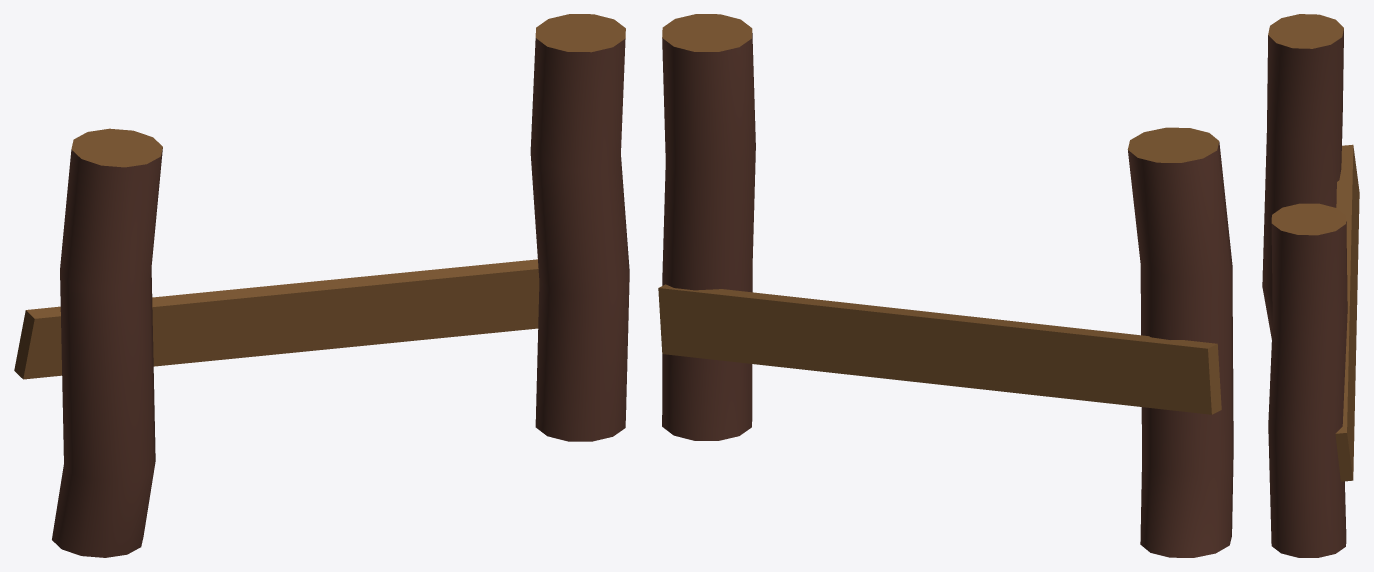
Rendered from WoodSemiRoundFence_Damaged.fbx.
3 views of the same model, side by side, from view 1: azimuth 30°, elevation 25°; view 2: azimuth 150°, elevation 25°; view 3: azimuth 270°, elevation 25° (orthographic). The views are drawn at different scales.
Parts seen in each view (by area): view 1: WoodSemiRoundFence_Damaged; view 2: WoodSemiRoundFence_Damaged; view 3: WoodSemiRoundFence_Damaged.
Part boxes in pixels (bbox=[...]): WoodSemiRoundFence_Damaged: bbox=[14, 14, 629, 557]; WoodSemiRoundFence_Damaged: bbox=[658, 14, 1233, 557]; WoodSemiRoundFence_Damaged: bbox=[1262, 14, 1359, 557].
Bounding box in the file's own units: 270 × 175 × 47.51.
